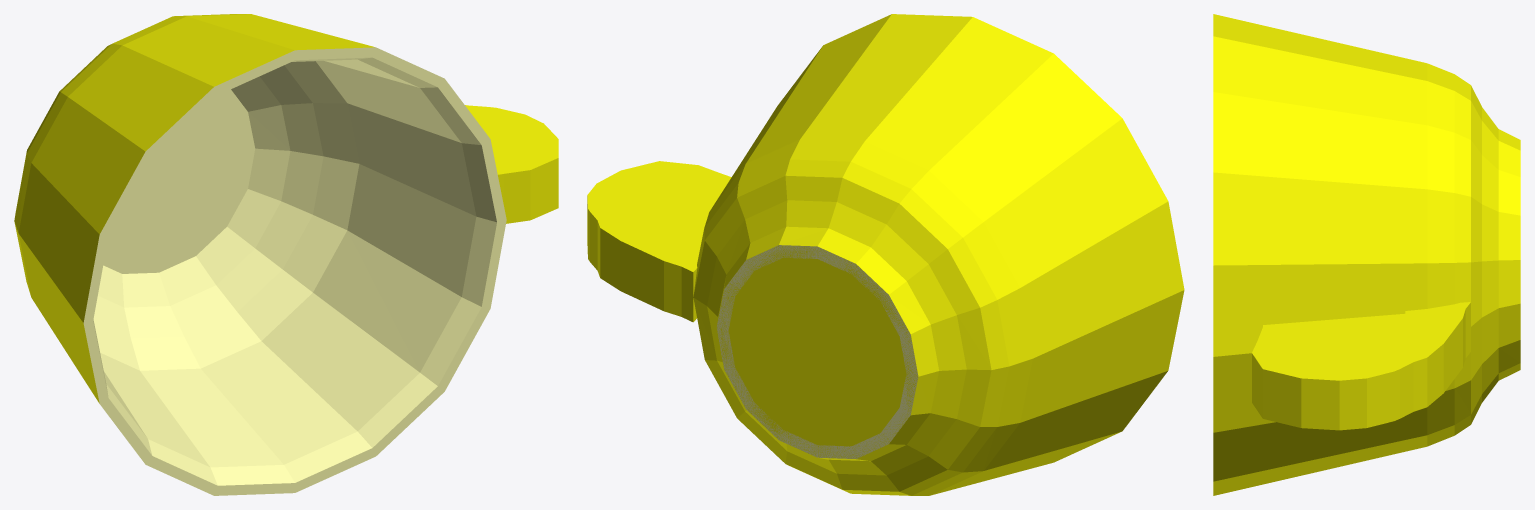
File: _coffee-cup-cup-bodyset2.glb
3 views of the same model, side by side, from view 1: azimuth 30°, elevation 25°; view 2: azimuth 150°, elevation 25°; view 3: azimuth 270°, elevation 25° (orthographic).
Size of the model in its own units: 0.109 by 0.088 by 0.056.
